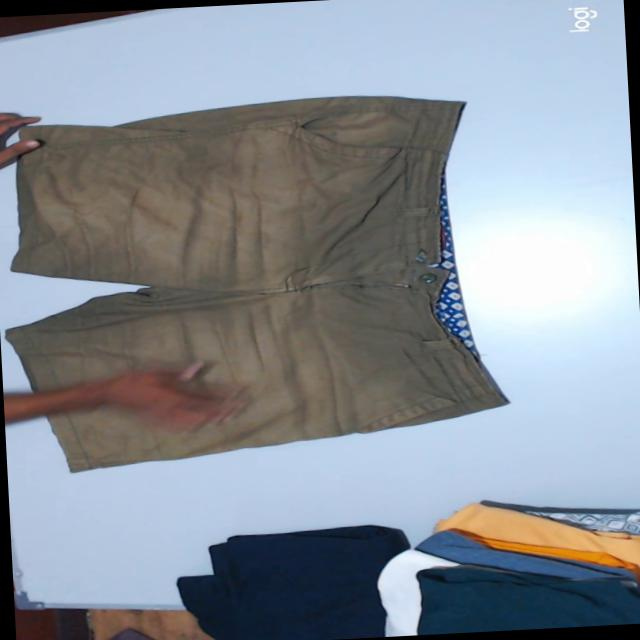new-garment: (6, 95, 508, 471)
